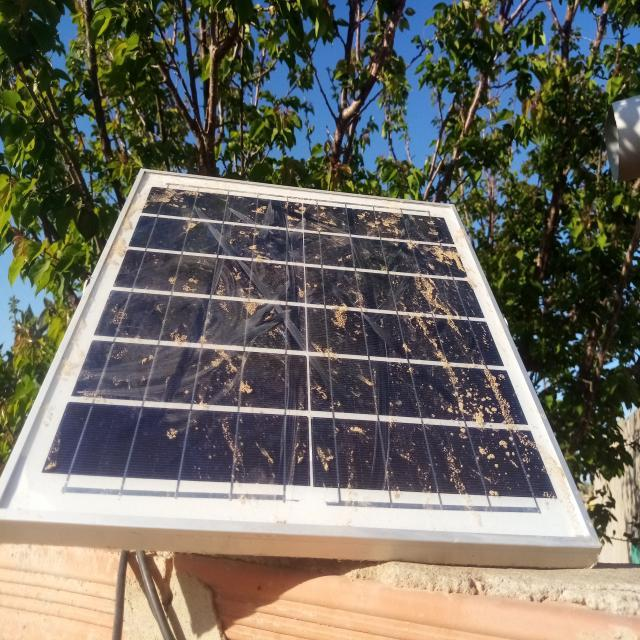faulty: (0, 168, 598, 544)
